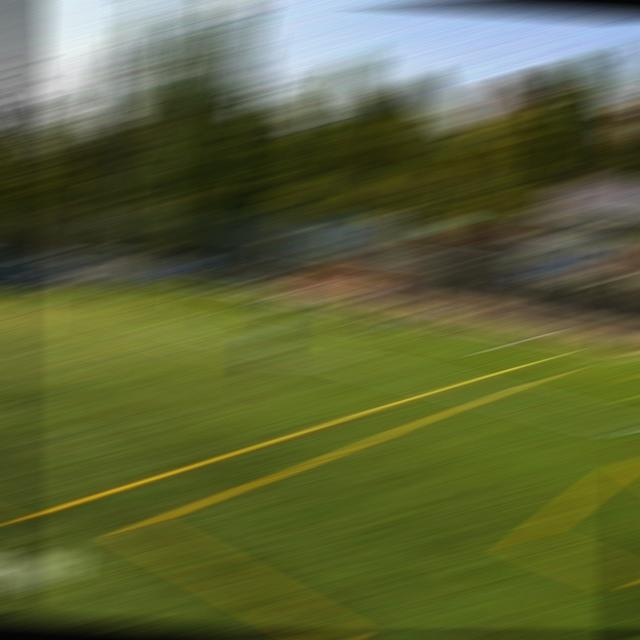bigarea_bottom_inner: (611, 411, 640, 440)
bigarea_top_inner: (32, 294, 69, 303)
bottom_arc_area_intersection: (335, 354, 369, 369)
smallarea_bottom_inner: (477, 340, 512, 352)
smallarea_bottom_outter: (514, 334, 547, 345)
smallarea_top_outter: (298, 300, 330, 306)
top_arc_area_intersection: (146, 317, 179, 326)
